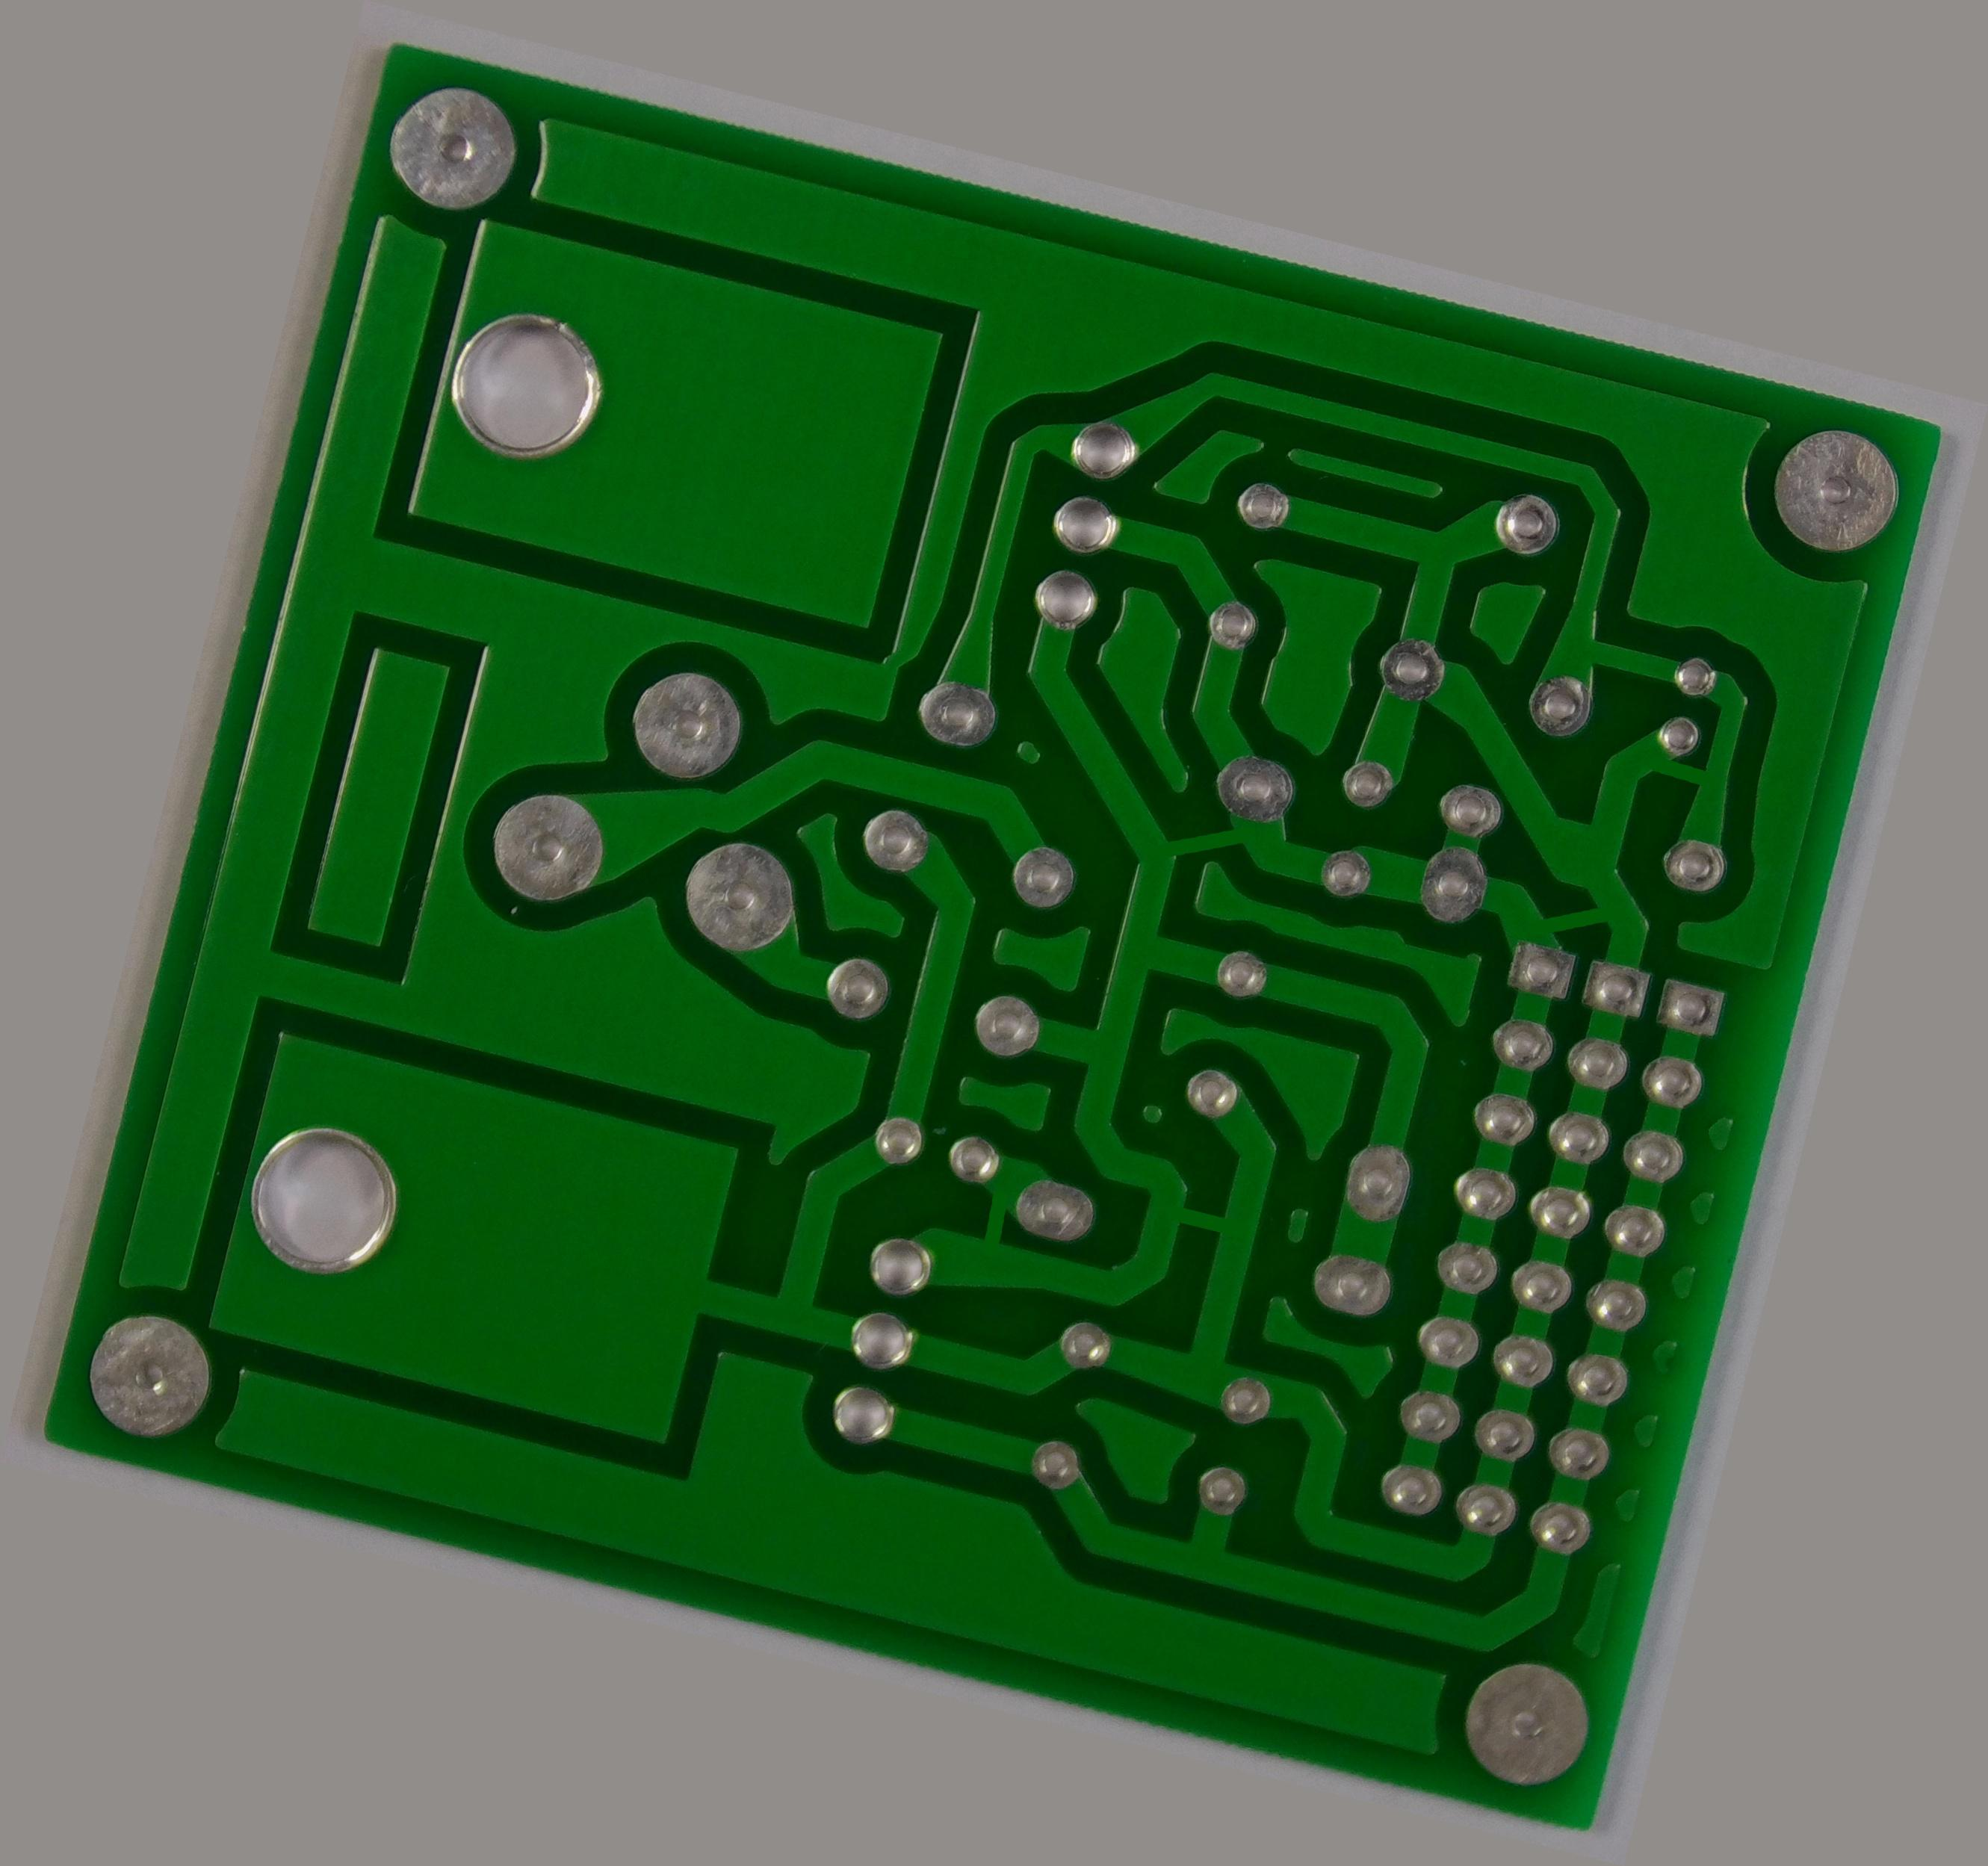short: (1105, 754, 1309, 910), (1135, 1159, 1272, 1280), (1511, 861, 1641, 973), (944, 1150, 1055, 1280), (1627, 717, 1732, 810)
